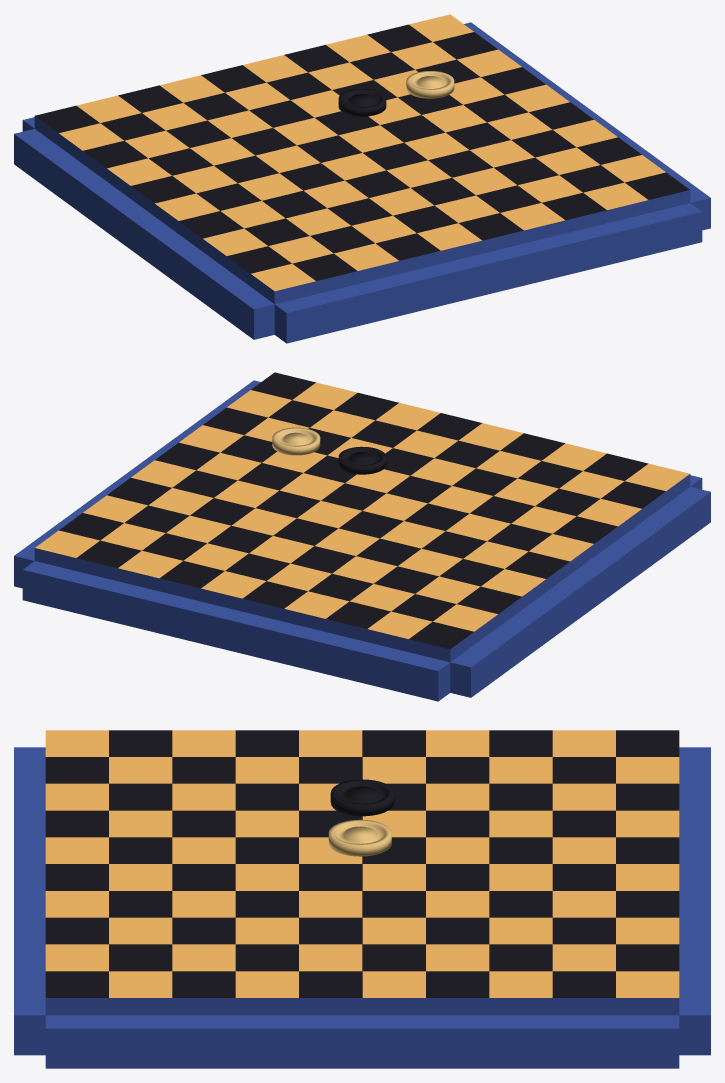
Rendered from board10x10.fbx.
3 views of the same model, one above another, from view 1: azimuth 30°, elevation 25°; view 2: azimuth 150°, elevation 25°; view 3: azimuth 270°, elevation 25° (orthographic). The views are drawn at different scales.
Visible parts, largest first — view 1: Cube, Cube.001, Cube.002; view 2: Cube, Cube.002, Cube.001; view 3: Cube, Cube.001, Cube.002.
Part boxes in pixels (x1,y1,x2,y2): Cube: (14,14,710,343); Cube.001: (338,88,386,116); Cube.002: (406,71,454,98); Cube: (14,372,710,701); Cube.002: (272,427,320,455); Cube.001: (338,446,386,474); Cube: (14,730,710,1068); Cube.001: (330,779,394,816); Cube.002: (328,819,391,856).
Bounding box in the file's own units: 2200 × 458 × 2200.
